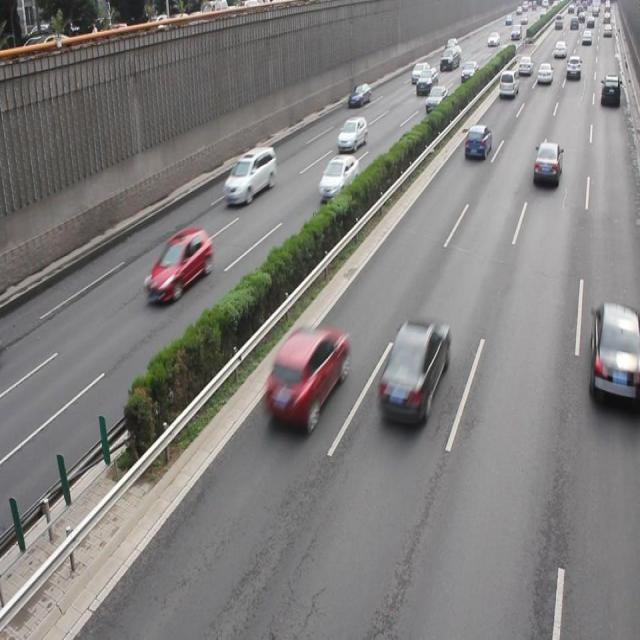car: (261, 326, 346, 433), (377, 316, 450, 425), (590, 300, 640, 405), (145, 226, 213, 302), (224, 146, 276, 204), (318, 153, 358, 199), (533, 142, 559, 186), (338, 116, 368, 151), (464, 123, 492, 159)
